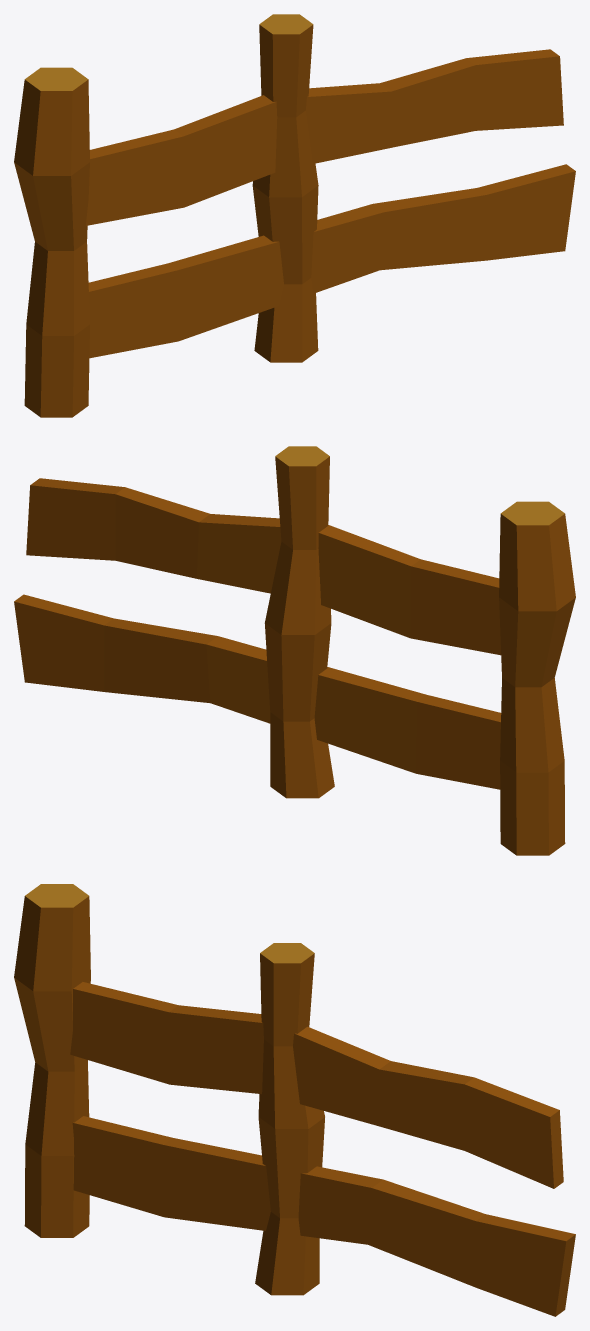
File: fence_2.glb
The picture shows the model from 3 angles, top to bottom: view 1: azimuth 30°, elevation 25°; view 2: azimuth 150°, elevation 25°; view 3: azimuth 330°, elevation 25°; orthographic projection.
Parts seen in each view (by area): view 1: fence_2; view 2: fence_2; view 3: fence_2.
Part boxes in pixels (box(x1,y1,x2,y2)): fence_2: box(14, 14, 575, 417); fence_2: box(14, 446, 575, 855); fence_2: box(14, 884, 575, 1316).
Size of the model in its own units: 5.36 by 3.07 by 0.6487.
1 material, 1 textured.
